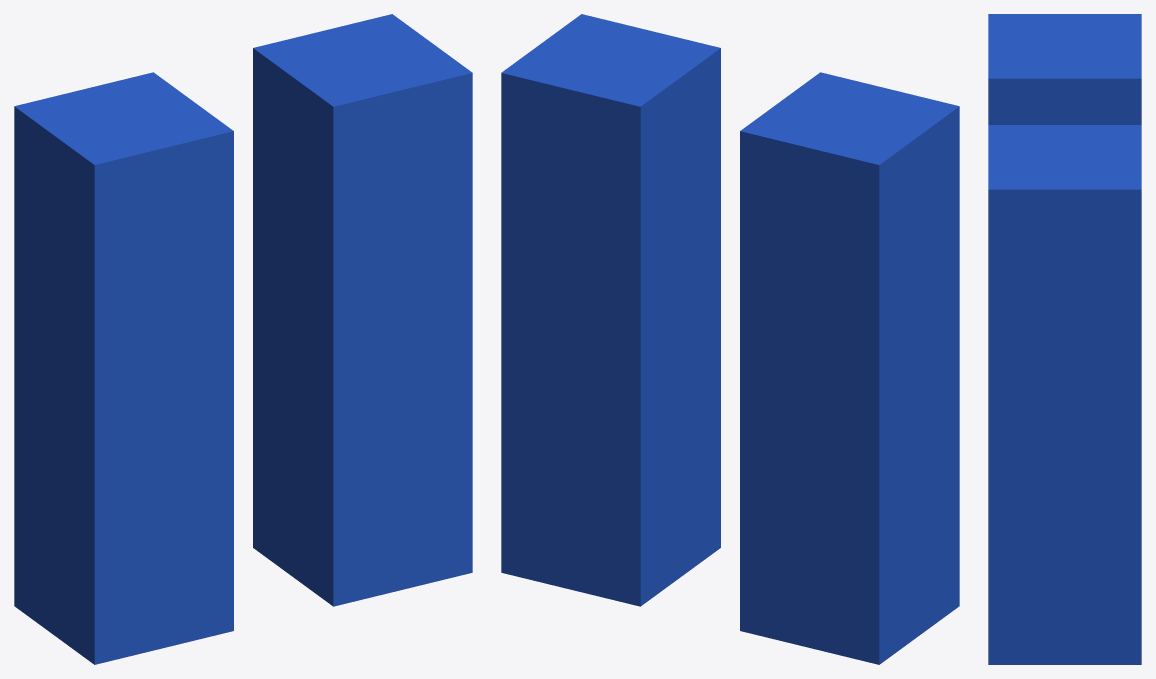
File: skomma__male_blue_leg_01.glb
3 renders of one model, left to right at view 1: azimuth 30°, elevation 25°; view 2: azimuth 150°, elevation 25°; view 3: azimuth 270°, elevation 25°, orthographic. The views are drawn at different scales.
Parts seen in each view (by area): view 1: Left_Leg, Right_Leg; view 2: Left_Leg, Right_Leg; view 3: Right_Leg, Left_Leg.
Part boxes in pixels (<box>): Left_Leg: <box>14,72,233,664</box>; Right_Leg: <box>253,14,472,606</box>; Left_Leg: <box>740,72,959,664</box>; Right_Leg: <box>501,14,720,606</box>; Right_Leg: <box>988,125,1141,664</box>; Left_Leg: <box>988,14,1141,124</box>.
Size of the model in its own units: 0.95 by 1.2 by 0.35.
